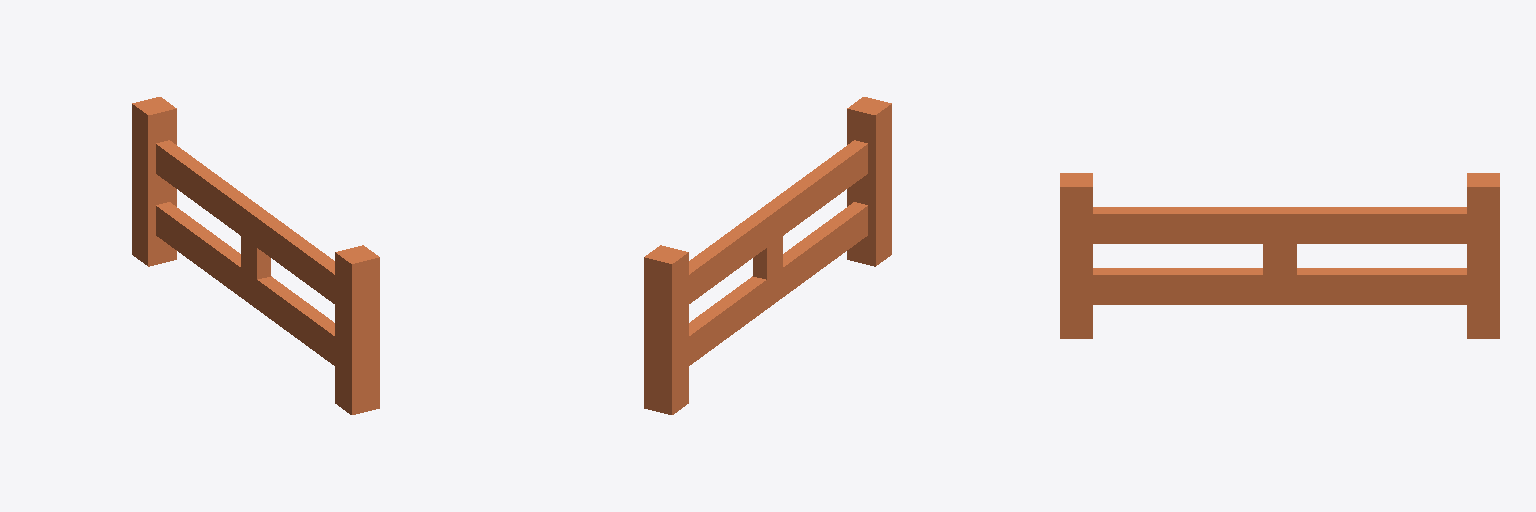
Rendered from fence.obj.
The picture shows the model from 3 angles: view 1: azimuth 30°, elevation 25°; view 2: azimuth 150°, elevation 25°; view 3: azimuth 270°, elevation 25°; orthographic projection.
Visible parts, largest first — view 1: fence; view 2: fence; view 3: fence.
Part boxes in pixels (x1,y1,x2,y2): fence: (132,97,379,414); fence: (644,97,891,414); fence: (1060,173,1499,338).
Size of the model in its own units: 0.075 by 0.38 by 1.